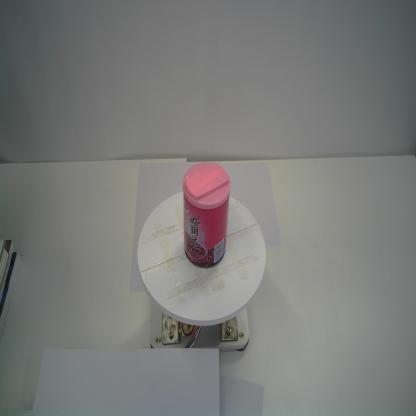Canned Food: (181, 161, 233, 271)
